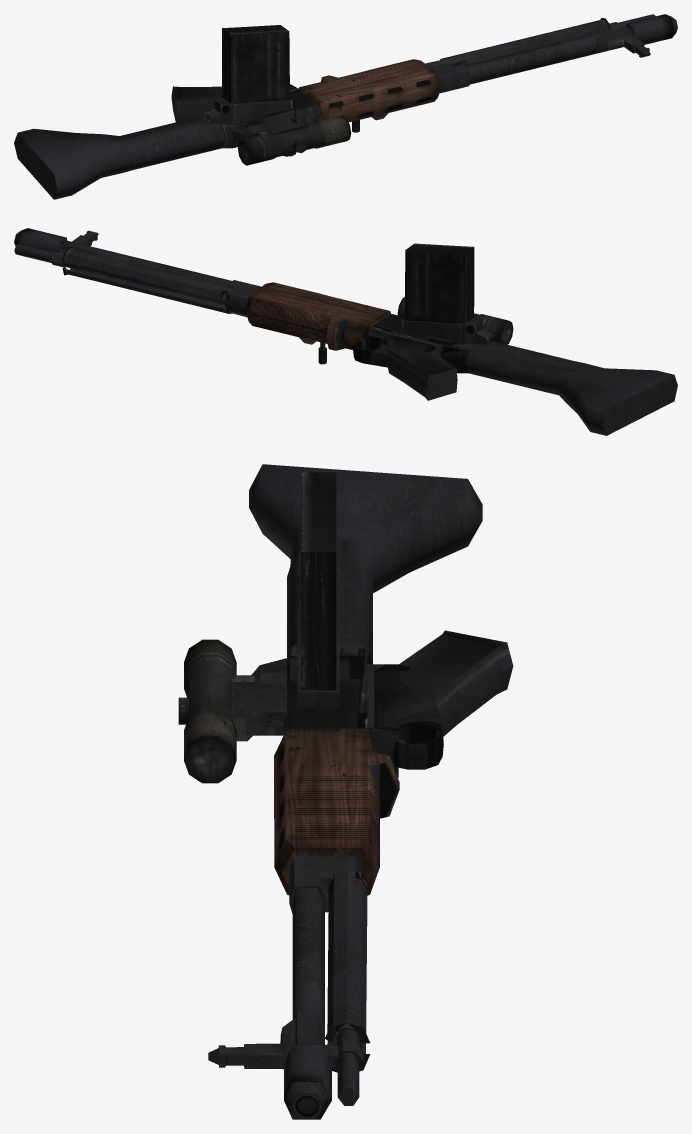
Rendered from weapon_ger_fg42_scoped_lmg_LOD01.obj.
3 renders of one model, top to bottom at view 1: azimuth 30°, elevation 25°; view 2: azimuth 150°, elevation 25°; view 3: azimuth 270°, elevation 25°, orthographic. The views are drawn at different scales.
Parts seen in each view (by area): view 1: TomGroup_0, TomGroup_1, TomGroup_2; view 2: TomGroup_0, TomGroup_1, TomGroup_2; view 3: TomGroup_0, TomGroup_1, TomGroup_2.
Part boxes in pixels (x1=…): TomGroup_0: x1=14, y1=14, x2=677, y2=199; TomGroup_1: x1=298, y1=59, x2=440, y2=122; TomGroup_2: x1=232, y1=115, x2=351, y2=165; TomGroup_0: x1=14, y1=228, x2=677, y2=435; TomGroup_1: x1=246, y1=282, x2=390, y2=350; TomGroup_2: x1=397, y1=297, x2=513, y2=344; TomGroup_0: x1=208, y1=464, x2=513, y2=1119; TomGroup_1: x1=274, y1=728, x2=399, y2=895; TomGroup_2: x1=178, y1=639, x2=287, y2=783.
Size of the model in its own units: 96.96 by 20.29 by 22.27.
Materials: 3 (3 with a texture image).
